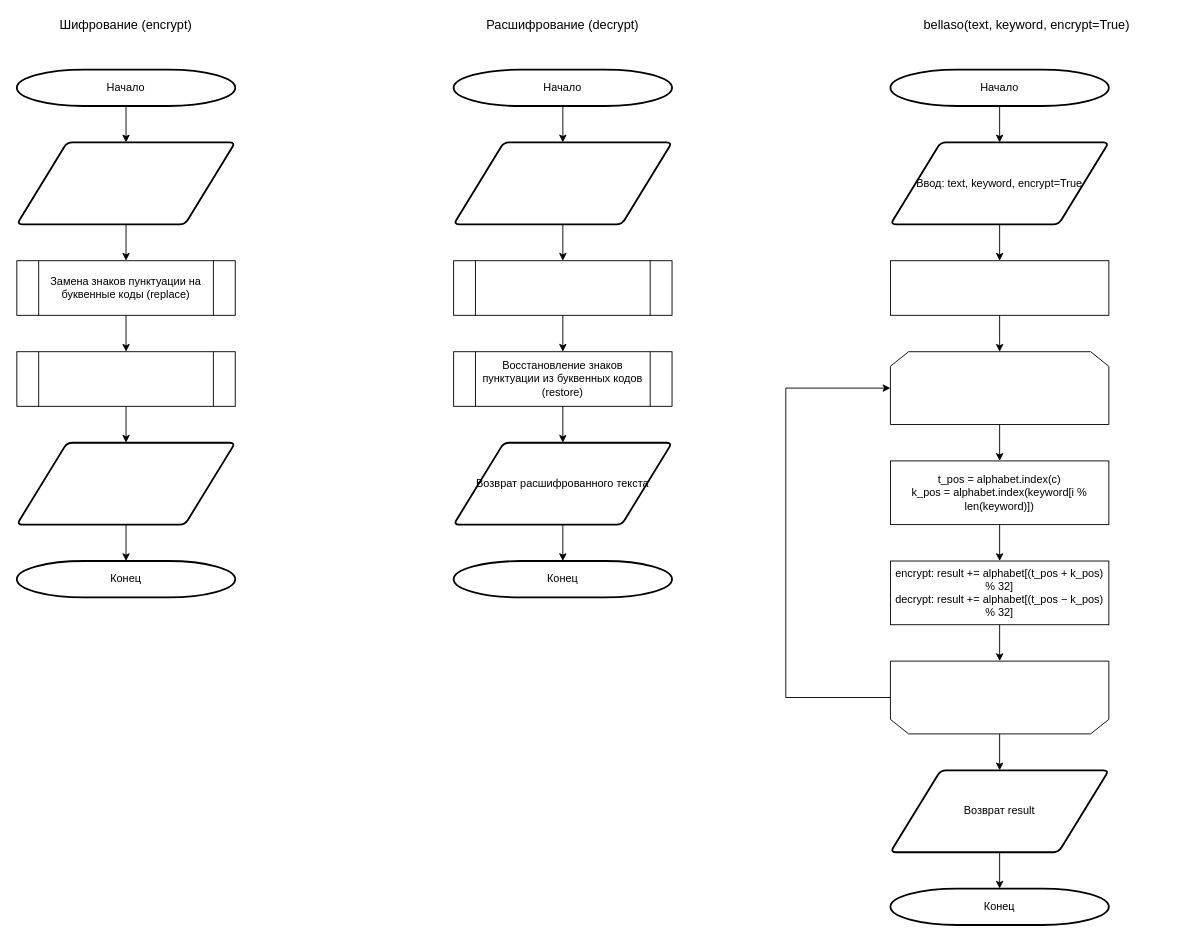
Some shapes in this 1178 by 941 pixel diagram are drawn without their labels. The shapes that lost their labels are listed below. From the top down, each one's box as (x1, y1, x2, y2) in pixels, then its label:
(15, 141, 236, 225): Ввод: text (строка), keyword (ключевое слово)
(452, 141, 672, 225): Ввод: text (шифртекст), keyword (ключевое слово)
(453, 260, 672, 315): Обратная многоалфавитная замена (bellaso, encrypt=False)
(890, 260, 1109, 315): clean = [c for c in text if c in alphabet] result = ""
(16, 351, 235, 406): Многоалфавитная замена с ключевым словом (bellaso, encrypt=True)
(890, 351, 1109, 425): цикл: для i, c в enumerate(clean)
(15, 441, 236, 525): Возврат зашифрованного текста
